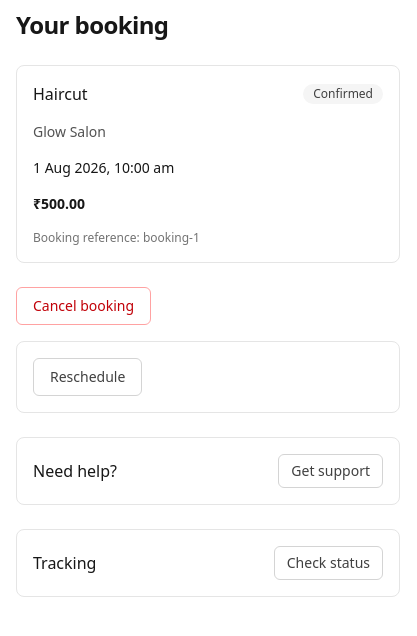
Test: BookingStatusPage › shows an honest fallback when the real response has no contact channel at all
The image size is (417, 636).
Click the button "Get support". click: (331, 471)
box: [278,454,383,488]
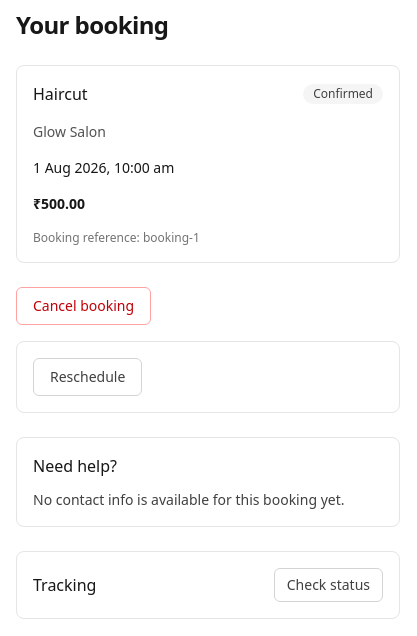
Now the text "No contact info is available for this booking yet." is shown, box [33,490,383,510]
